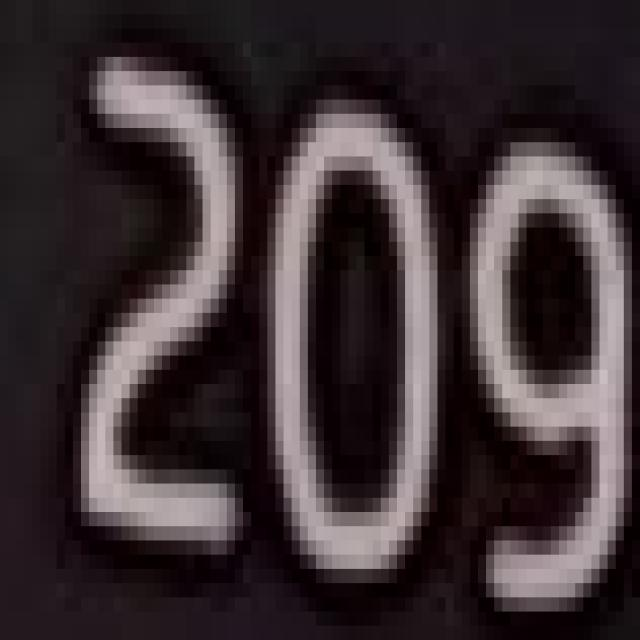character: (260, 81, 449, 595), (69, 37, 249, 573), (460, 122, 632, 619)
